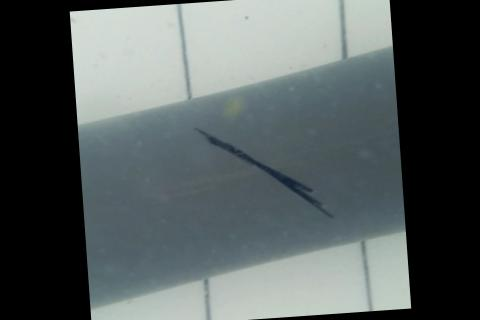keretakan: (189, 115, 338, 229)
